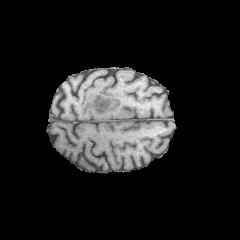glioma: (84, 90, 121, 119)
